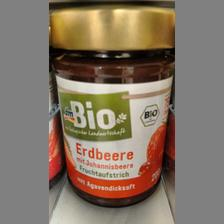Marmelade: (50, 4, 174, 208)
